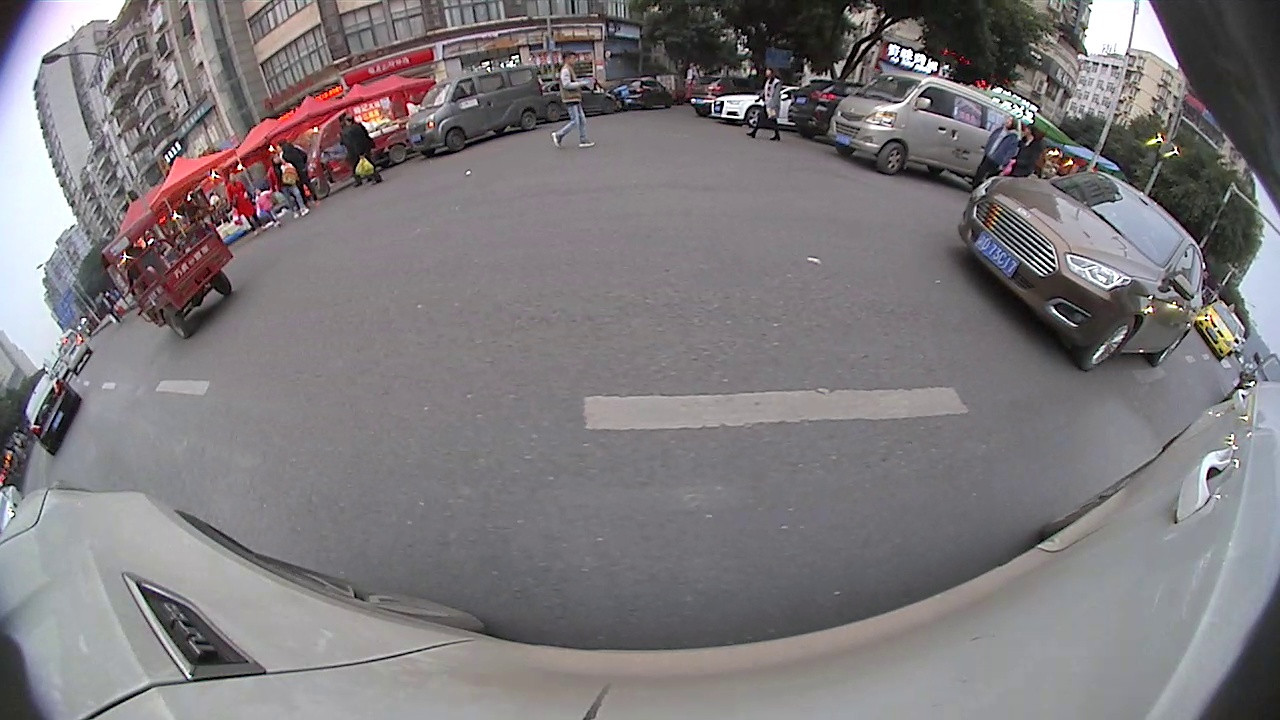car: (954, 168, 1209, 372), (825, 67, 1027, 182), (100, 202, 239, 341), (404, 61, 547, 156), (22, 368, 86, 454), (1194, 290, 1242, 363), (54, 324, 97, 373)
front: (1076, 310, 1138, 373), (878, 140, 910, 176), (442, 127, 468, 154), (744, 105, 768, 130)
person: (560, 46, 592, 151), (761, 64, 783, 141)
